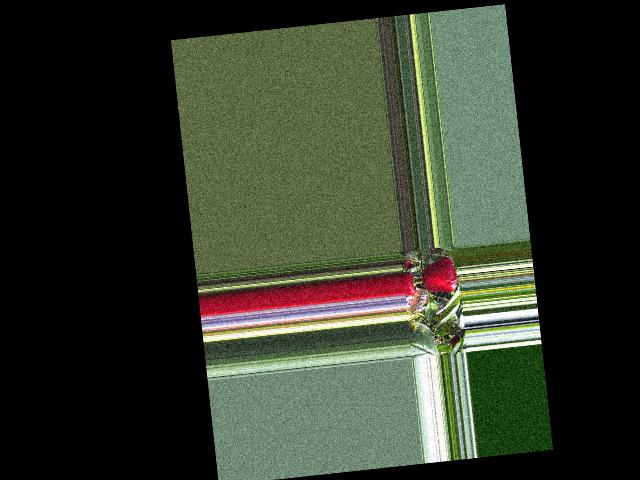bell_pepper: (401, 269, 419, 298)
